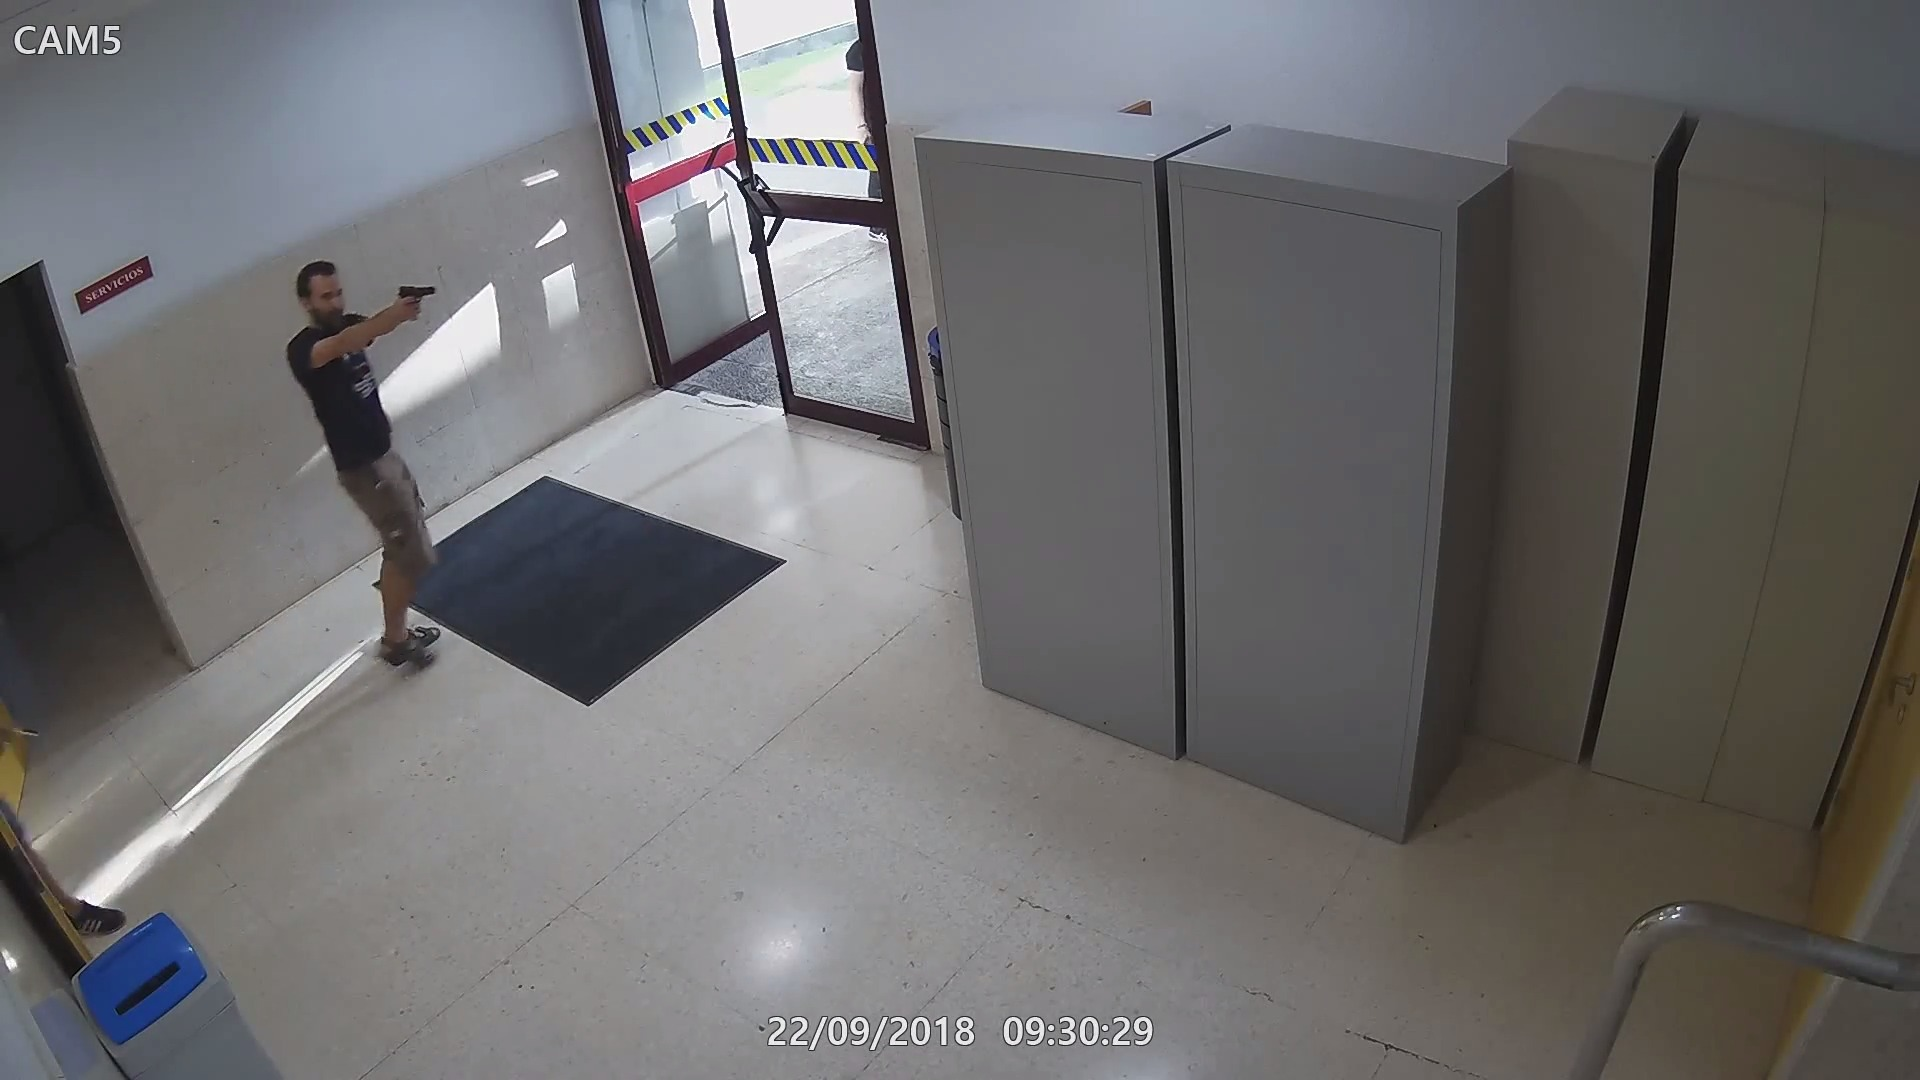Handgun: (388, 280, 439, 326)
